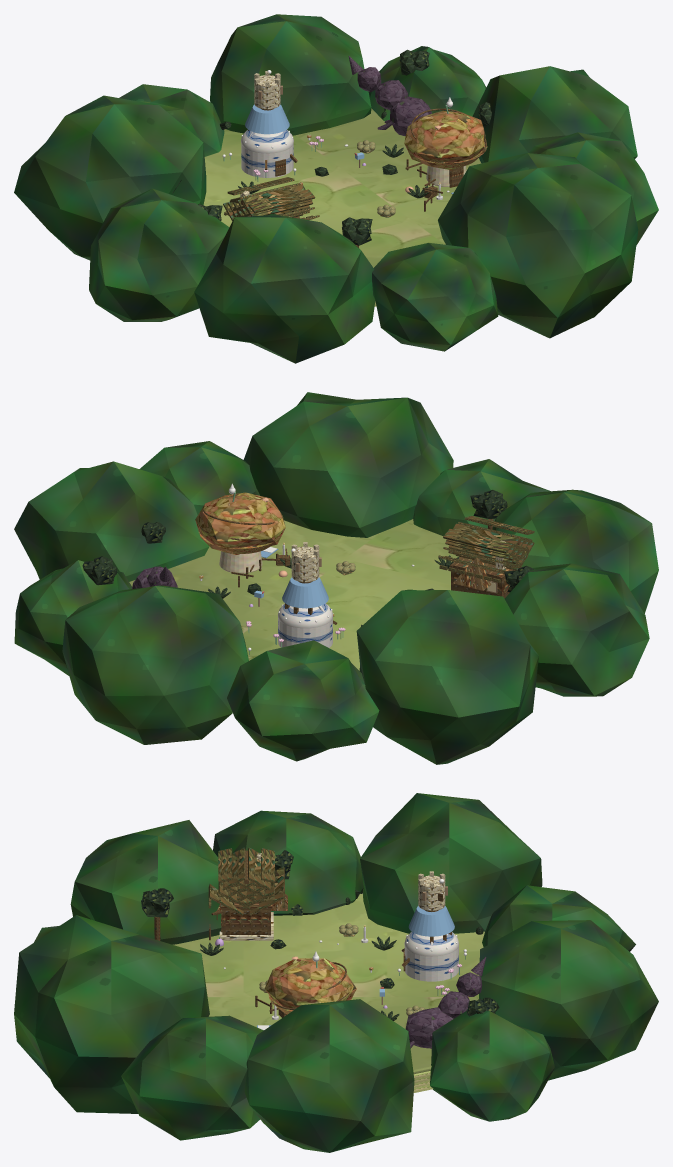
The model's file is village_textured7.glb.
The picture shows the model from 3 angles, top to bottom: view 1: azimuth 30°, elevation 25°; view 2: azimuth 150°, elevation 25°; view 3: azimuth 270°, elevation 25°; orthographic projection. The views are drawn at different scales.
Visible parts, largest first — view 1: hill_8, hill_6, hill_4, terrain_grass, hill_2, hill_5, hill_7, hill_0, hill_9, hill_1, mushroom_cap, hill_3 (+8 smaller); view 2: hill_4, hill_2, hill_8, terrain_grass, hill_0, hill_5, hill_3, hill_6, hill_1, hill_7, hill_9, mushroom_cap (+9 smaller); view 3: hill_8, hill_0, hill_2, hill_4, terrain_grass, hill_6, hill_9, hill_1, hill_5, hill_3, mushroom_cap, tower_pot (+8 smaller).
Boxes of the visible parts, x1=… form: hill_8: x1=438, y1=153, x2=638, y2=338; hill_6: x1=194, y1=213, x2=375, y2=363; hill_4: x1=14, y1=95, x2=206, y2=260; terrain_grass: x1=203, y1=108, x2=481, y2=267; hill_2: x1=210, y1=14, x2=371, y2=135; hill_5: x1=89, y1=188, x2=229, y2=321; hill_7: x1=372, y1=243, x2=498, y2=351; hill_0: x1=472, y1=66, x2=637, y2=163; hill_9: x1=529, y1=132, x2=658, y2=245; hill_1: x1=368, y1=46, x2=486, y2=121; mushroom_cap: x1=404, y1=110, x2=485, y2=170; hill_3: x1=119, y1=84, x2=224, y2=156; hill_4: x1=356, y1=589, x2=538, y2=764; hill_2: x1=62, y1=585, x2=248, y2=744; hill_8: x1=243, y1=392, x2=453, y2=537; terrain_grass: x1=129, y1=519, x2=458, y2=670; hill_0: x1=14, y1=461, x2=209, y2=581; hill_5: x1=504, y1=563, x2=649, y2=696; hill_3: x1=227, y1=640, x2=379, y2=761; hill_6: x1=492, y1=489, x2=658, y2=613; hill_1: x1=14, y1=560, x2=132, y2=675; hill_7: x1=413, y1=459, x2=550, y2=535; hill_9: x1=139, y1=441, x2=259, y2=514; mushroom_cap: x1=195, y1=492, x2=285, y2=554; hill_8: x1=14, y1=915, x2=209, y2=1113; hill_0: x1=244, y1=999, x2=414, y2=1152; hill_2: x1=479, y1=920, x2=658, y2=1080; hill_4: x1=360, y1=793, x2=542, y2=933; terrain_grass: x1=173, y1=893, x2=484, y2=1074; hill_6: x1=70, y1=820, x2=221, y2=944; hill_9: x1=121, y1=1015, x2=263, y2=1140; hill_1: x1=430, y1=1010, x2=554, y2=1121; hill_5: x1=213, y1=810, x2=363, y2=915; hill_3: x1=482, y1=885, x2=635, y2=951; mushroom_cap: x1=264, y1=958, x2=356, y2=1008; tower_pot: x1=404, y1=945, x2=458, y2=981.
Size of the model in its own units: 41.75 by 11.86 by 40.42.
25 materials, 12 textured.
